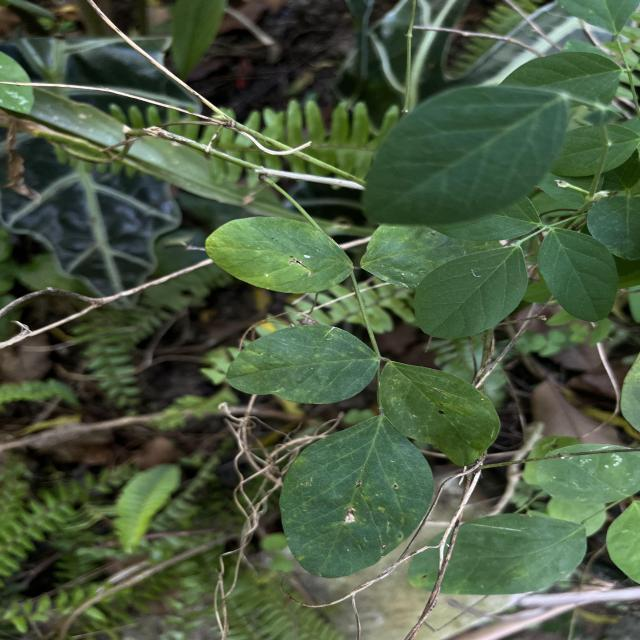Clitoria ternatea: (278, 414, 436, 580), (377, 360, 502, 468), (225, 324, 382, 406), (204, 216, 355, 294), (412, 244, 530, 340)
